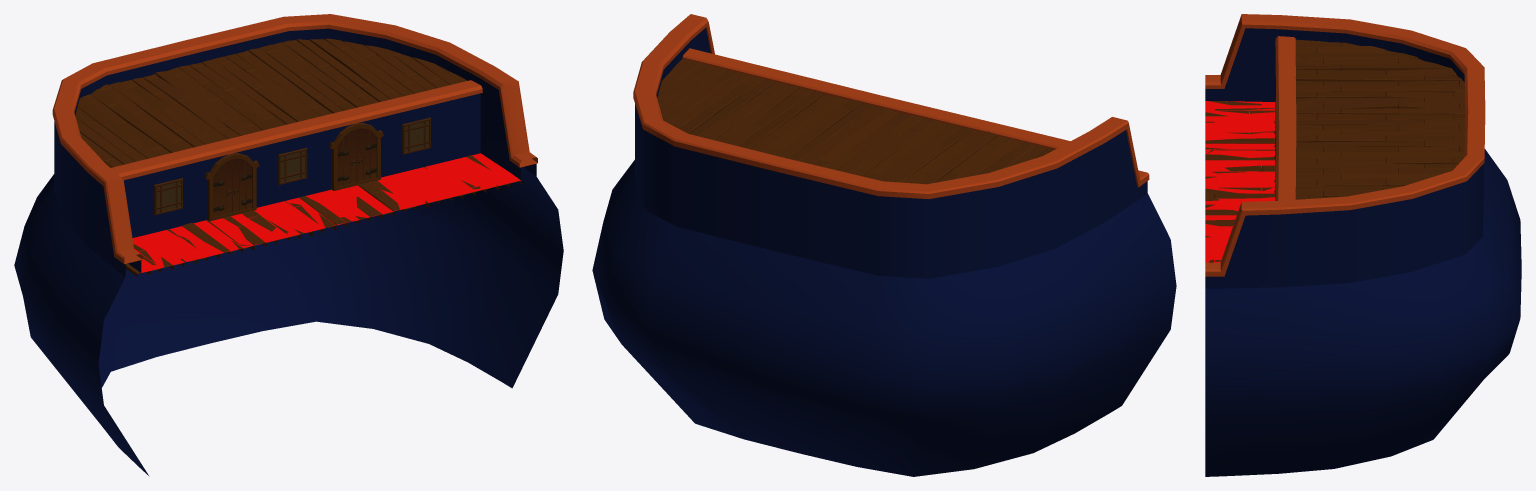
The model's file is Hull_Rear.fbx.
The picture shows the model from 3 angles, left to right: view 1: azimuth 30°, elevation 25°; view 2: azimuth 150°, elevation 25°; view 3: azimuth 270°, elevation 25°; orthographic projection. The views are drawn at different scales.
Parts seen in each view (by area): view 1: Hull_Rear_Cabin, Hull_Rear_Projector; view 2: Hull_Rear_Cabin; view 3: Hull_Rear_Cabin, Hull_Rear_Projector.
Boxes of the visible parts, x1,y1,x2,y2 form: Hull_Rear_Cabin: (14, 14, 563, 476); Hull_Rear_Projector: (132, 153, 520, 272); Hull_Rear_Cabin: (592, 14, 1176, 476); Hull_Rear_Cabin: (1205, 14, 1521, 476); Hull_Rear_Projector: (1205, 101, 1274, 262).
Bounding box in the file's own units: 23.77 × 14.06 × 14.43.
